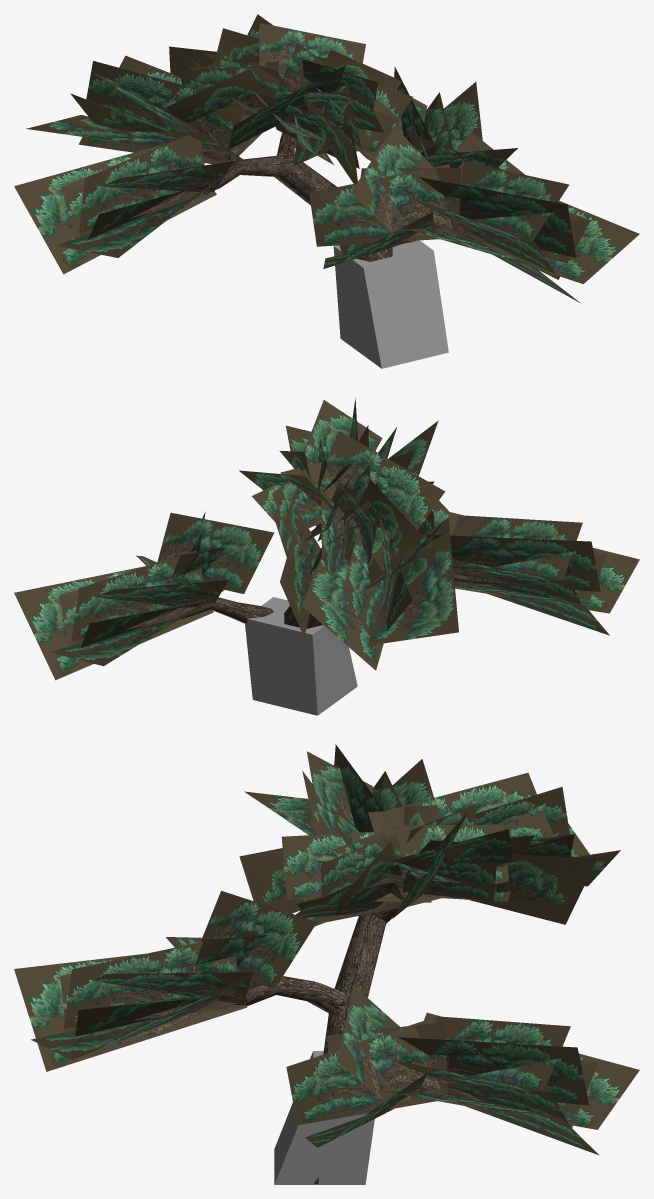
The model's file is Scene_Tree_songshu1.FBX.
The picture shows the model from 3 angles, top to bottom: view 1: azimuth 30°, elevation 25°; view 2: azimuth 150°, elevation 25°; view 3: azimuth 270°, elevation 25°; orthographic projection. The views are drawn at different scales.
Parts seen in each view (by area): view 1: Scene_Tree_songshu1_a, Scene_Tree_songshu1_Xzm, Scene_Tree_songshu1_b; view 2: Scene_Tree_songshu1_a, Scene_Tree_songshu1_Xzm, Scene_Tree_songshu1_b; view 3: Scene_Tree_songshu1_a, Scene_Tree_songshu1_Xzm, Scene_Tree_songshu1_b.
Part boxes in pixels (box(x1,y1,x2,y2)): Scene_Tree_songshu1_a: box(14, 14, 639, 302); Scene_Tree_songshu1_Xzm: box(333, 240, 448, 368); Scene_Tree_songshu1_b: box(188, 123, 487, 261); Scene_Tree_songshu1_a: box(14, 398, 639, 680); Scene_Tree_songshu1_Xzm: box(245, 597, 357, 715); Scene_Tree_songshu1_b: box(179, 524, 517, 628); Scene_Tree_songshu1_a: box(14, 744, 639, 1155); Scene_Tree_songshu1_Xzm: box(274, 1051, 374, 1184); Scene_Tree_songshu1_b: box(233, 908, 480, 1184).
Size of the model in its own units: 902 by 476 by 844.
